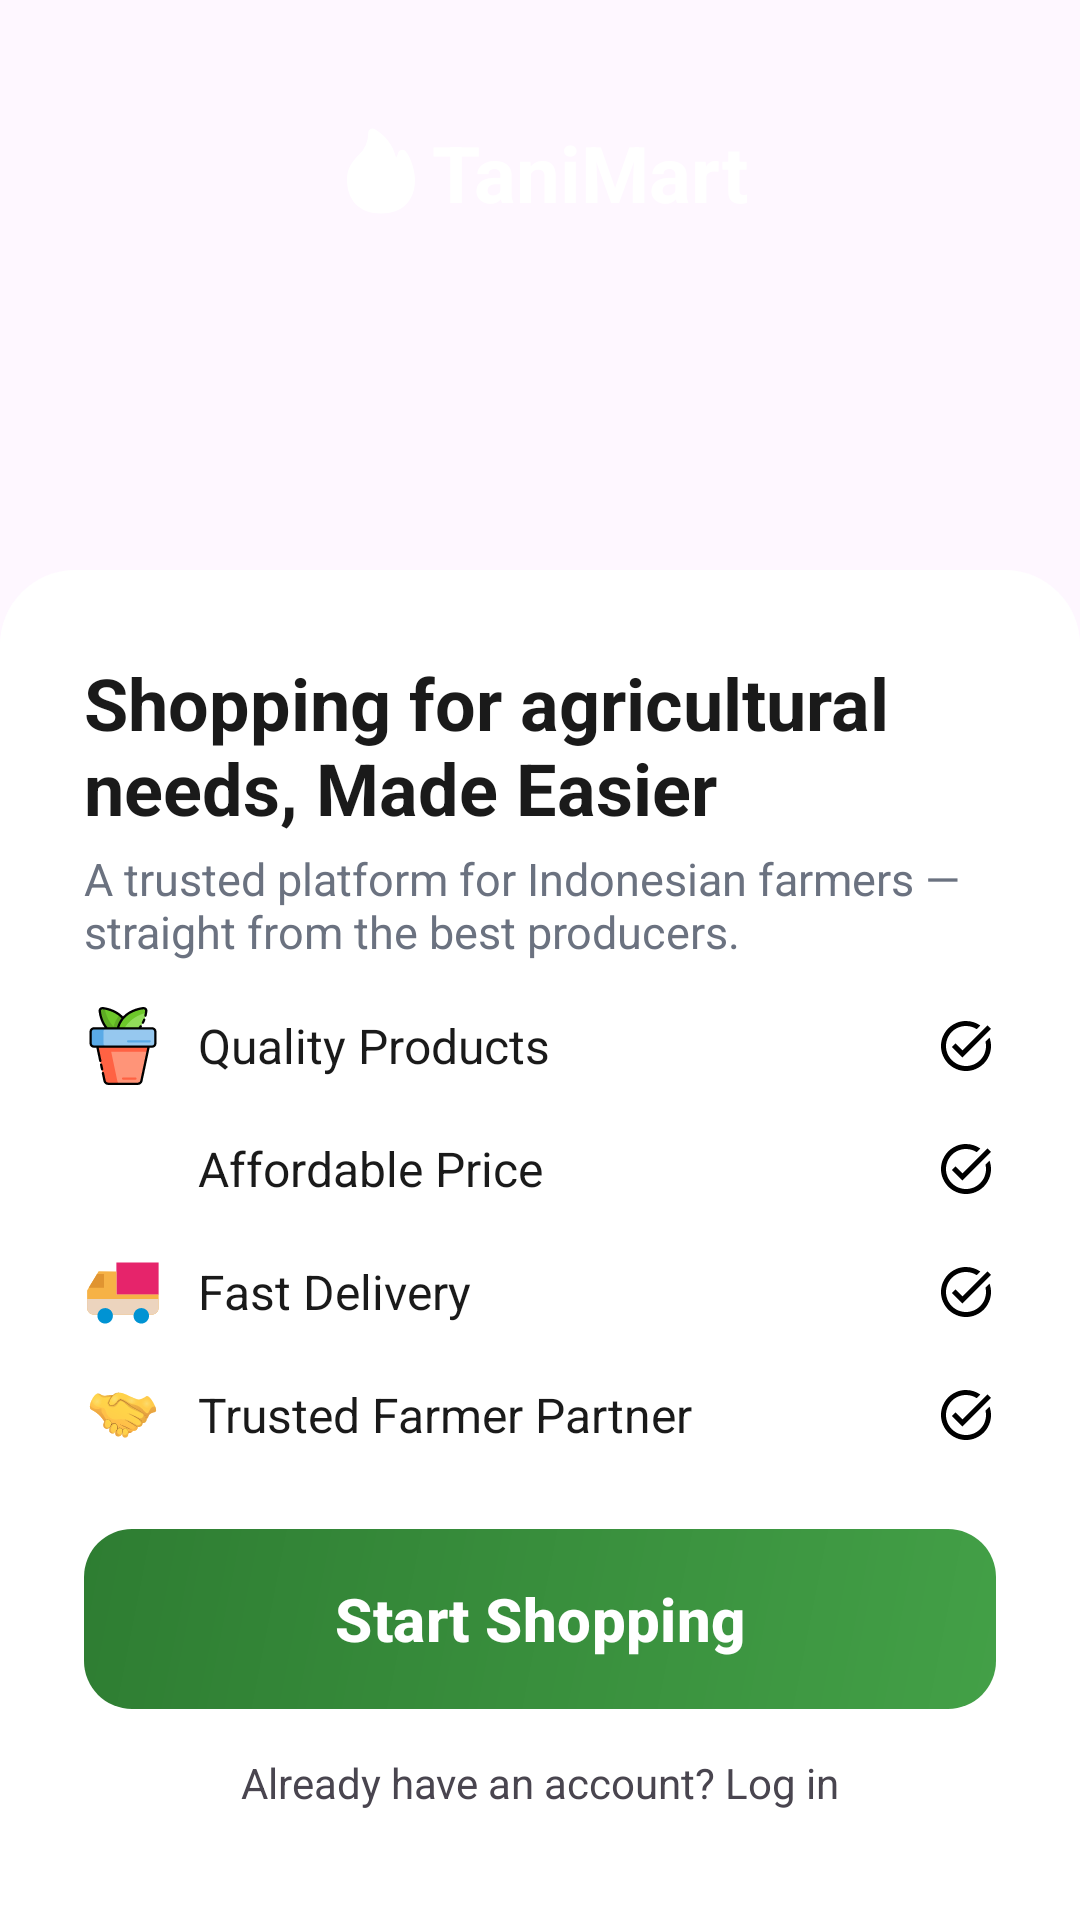

Where icons sit on this 1080×1920 app screen, as box(x1, y1, x2, y2):
handshake svgob: box(89, 1392, 156, 1438)
plant ob: box(89, 1007, 157, 1085)
task tickob: box(941, 1021, 991, 1071), box(941, 1144, 991, 1194), box(941, 1267, 991, 1317), box(941, 1390, 991, 1440)
truck ob: box(87, 1262, 159, 1324)
